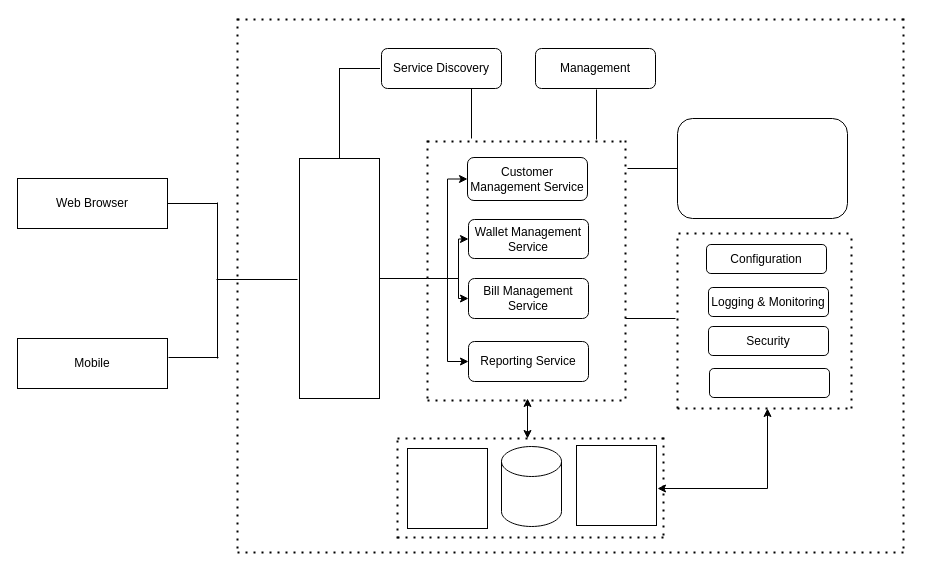
Image size: 927x571. Some labels were removed from this diagram. The shapes that lost their labels are listed below. From the top down, each one's box as (x1, y1, x2, y2) in pixels, then its label:
(676, 118, 848, 218): External Services Biller Details / Payment Gateways
(298, 158, 380, 398): API Gateway
(708, 368, 830, 398): Circuit Breaker
(406, 448, 488, 528): Notification
(576, 444, 656, 526): Analytics
